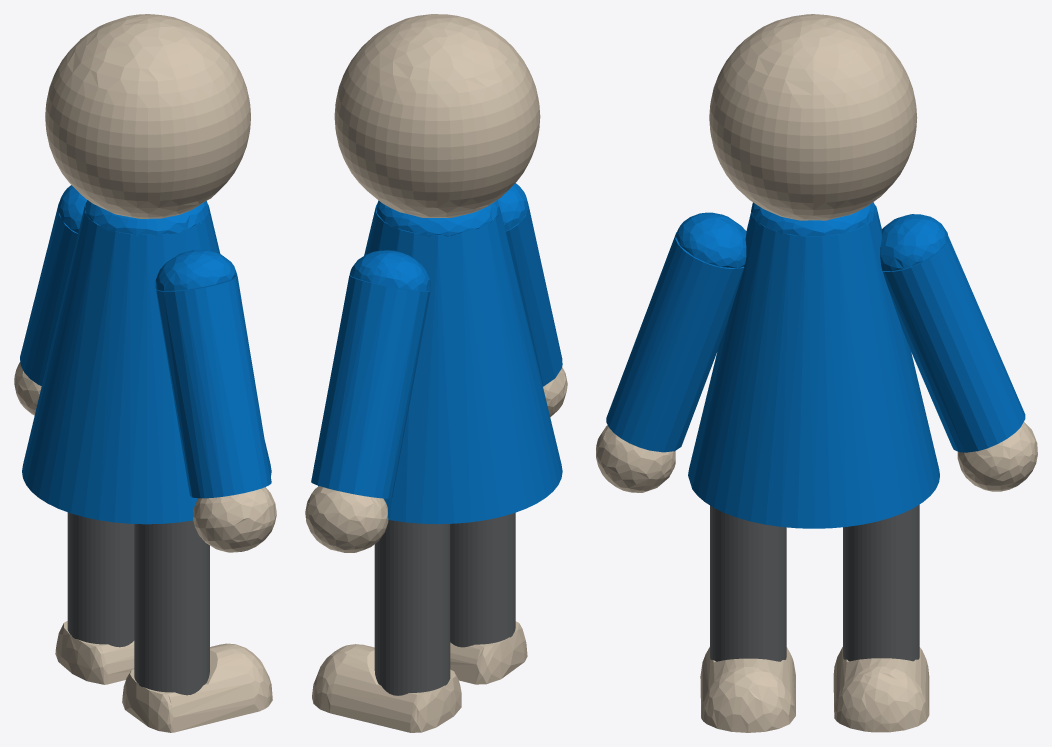
File: playerBase.glb
The picture shows the model from 3 angles, left to right: view 1: azimuth 30°, elevation 25°; view 2: azimuth 150°, elevation 25°; view 3: azimuth 270°, elevation 25°; orthographic projection.
Visible parts, largest first — view 1: Mesh_Mesh_head_geo001_lambert2SG001; view 2: Mesh_Mesh_head_geo001_lambert2SG001; view 3: Mesh_Mesh_head_geo001_lambert2SG001.
Part boxes in pixels (<box>): Mesh_Mesh_head_geo001_lambert2SG001: <box>14,14,276,732</box>; Mesh_Mesh_head_geo001_lambert2SG001: <box>305,14,567,732</box>; Mesh_Mesh_head_geo001_lambert2SG001: <box>596,14,1037,732</box>.
Size of the model in its own units: 25.7 by 75.02 by 45.04.
